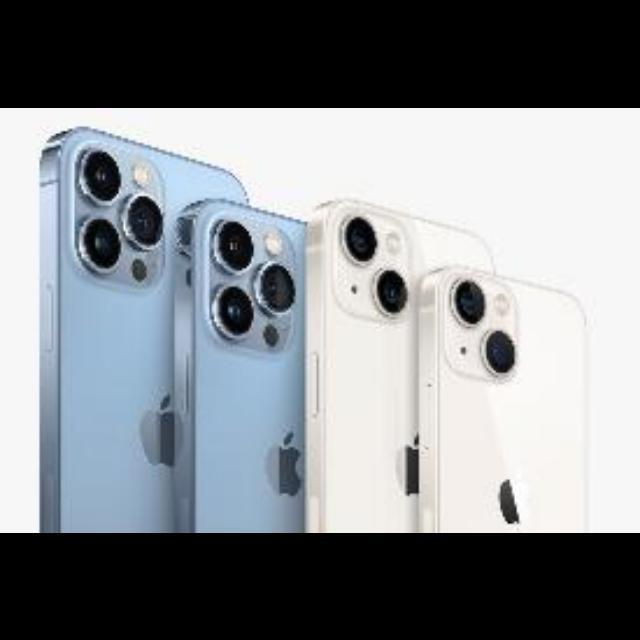PhoneUse: (44, 128, 174, 532), (417, 270, 589, 532), (178, 195, 302, 532), (306, 194, 416, 532)
